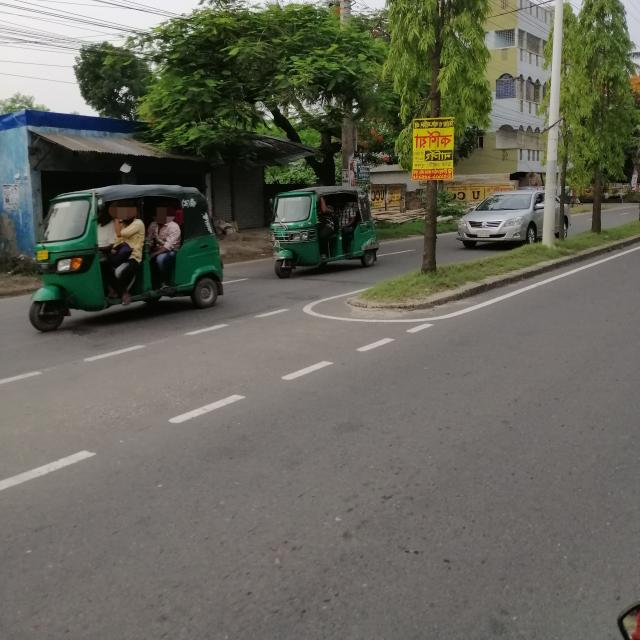CNG: (19, 169, 230, 349), (248, 176, 392, 295)
Car: (431, 167, 593, 273)
